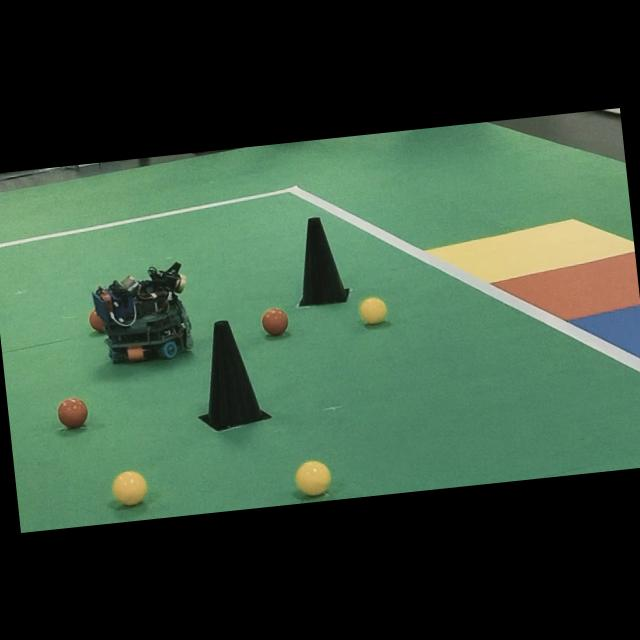ball: (296, 461, 331, 495), (112, 471, 146, 504), (57, 397, 86, 427), (359, 297, 386, 324), (262, 307, 288, 335), (88, 309, 104, 332)
goal: (427, 218, 634, 282), (493, 252, 639, 318), (569, 304, 640, 358)
